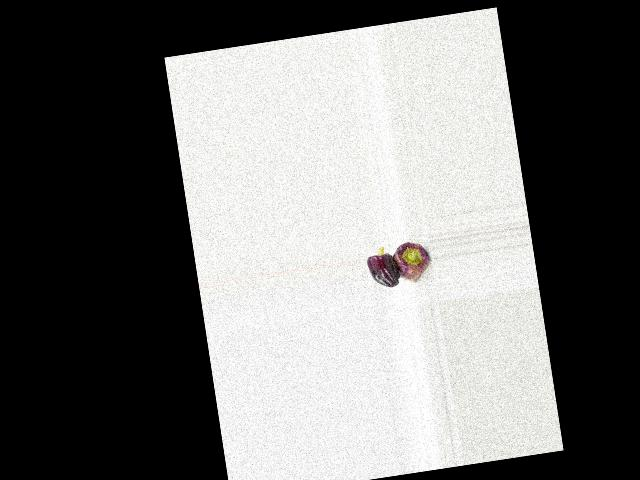bell_pepper: (389, 231, 435, 292)
